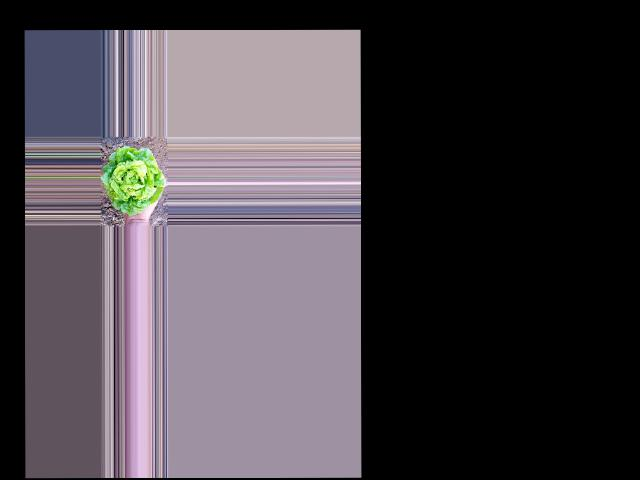lettuce: (102, 145, 164, 210)
